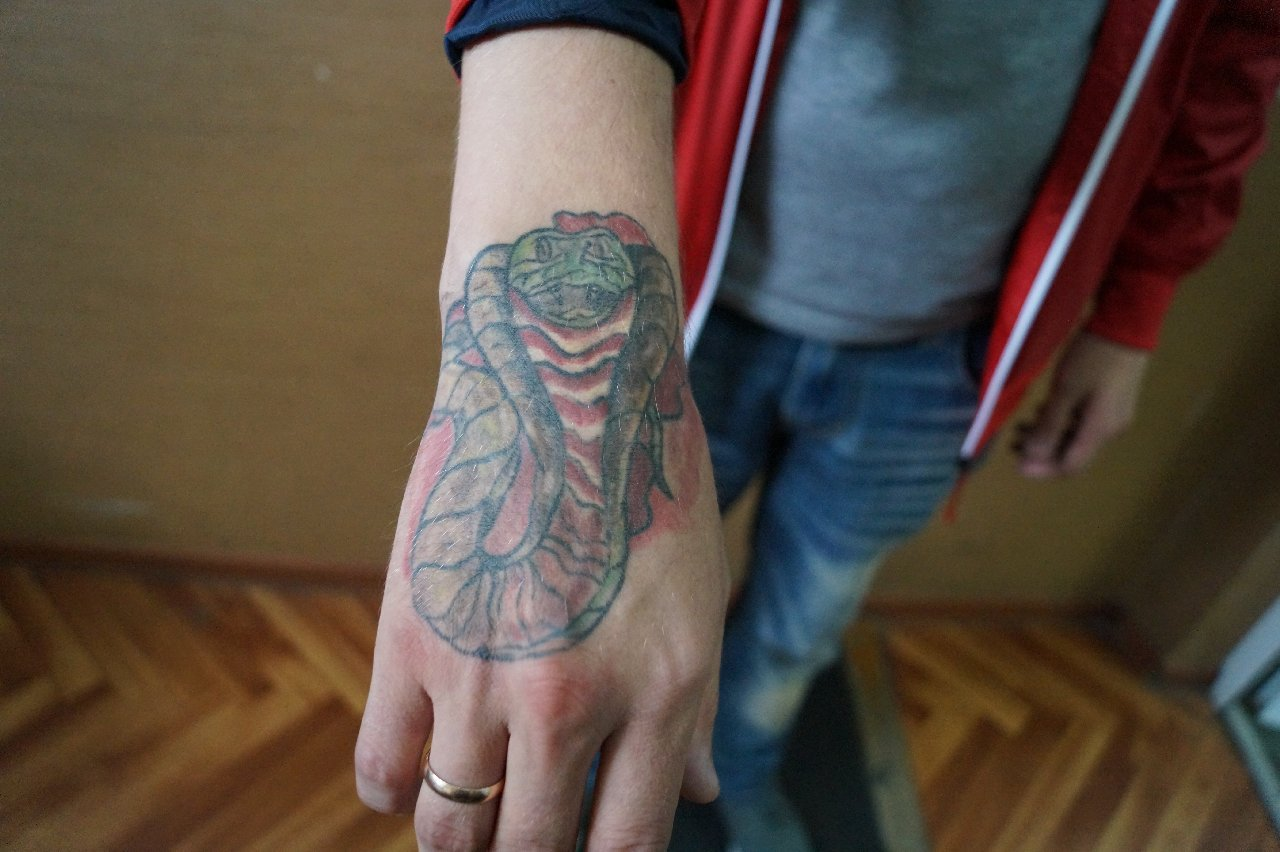tatu7_zmeya: (399, 200, 888, 689)
